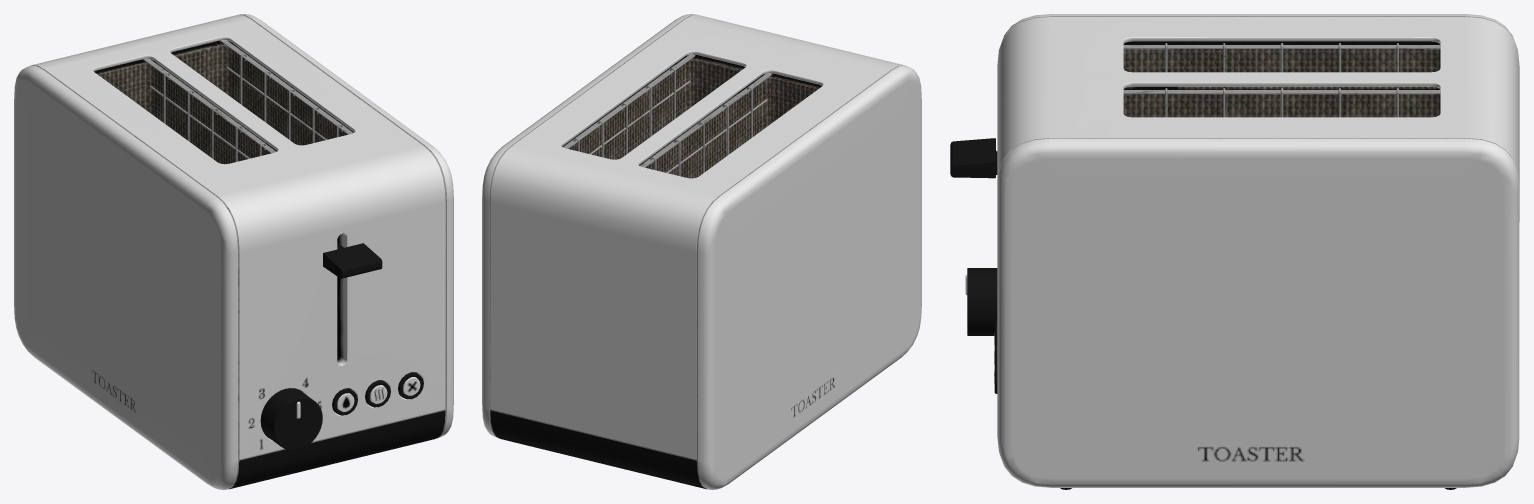
The model's file is tostador 05 GLB (1).glb.
3 renders of one model, left to right at view 1: azimuth 30°, elevation 25°; view 2: azimuth 150°, elevation 25°; view 3: azimuth 270°, elevation 25°, orthographic. The views are drawn at different scales.
Visible parts, largest first — view 1: Box004; view 2: Box004; view 3: Box004.
Part boxes in pixels (left/top/right/bottom): Box004: left=14, top=14, right=453, bottom=489; Box004: left=482, top=14, right=921, bottom=489; Box004: left=950, top=14, right=1519, bottom=489.
Size of the model in its own units: 15.5 by 19.13 by 27.46.
1 material, 1 textured.
